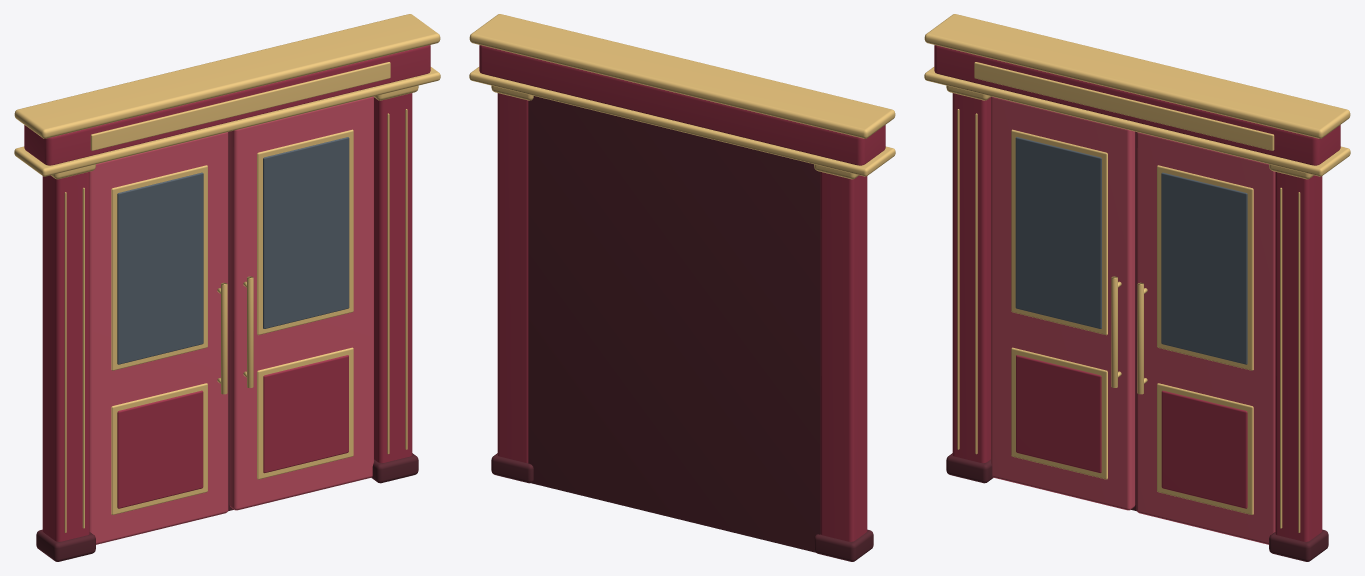
The model's file is door.glb.
3 views of the same model, side by side, from view 1: azimuth 30°, elevation 25°; view 2: azimuth 150°, elevation 25°; view 3: azimuth 330°, elevation 25° (orthographic).
Visible parts, largest first — view 1: door; view 2: door; view 3: door.
Part boxes in pixels (x1,y1,x2,y2): door: [14, 14, 440, 561]; door: [469, 14, 895, 561]; door: [924, 14, 1350, 561].
Size of the model in its own units: 3.06 by 3.24 by 0.4.
